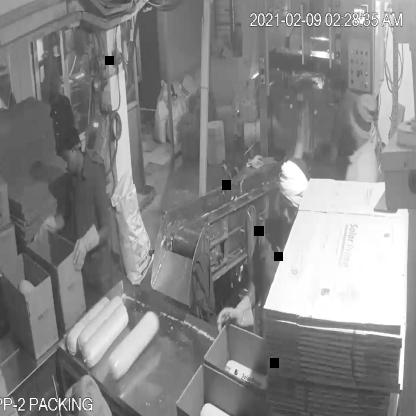glove: (67, 223, 106, 274), (214, 295, 255, 341), (31, 214, 60, 249)
